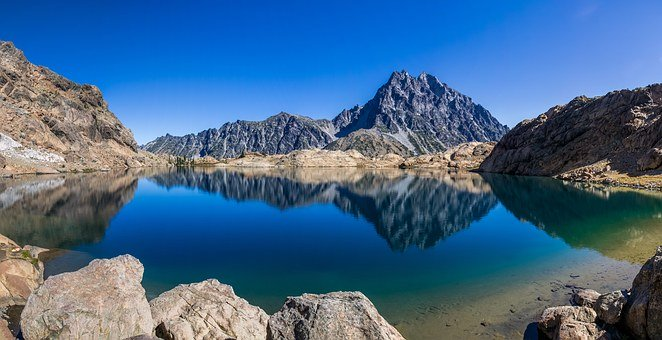lake: (29, 167, 648, 334)
mountain: (9, 43, 658, 170)
